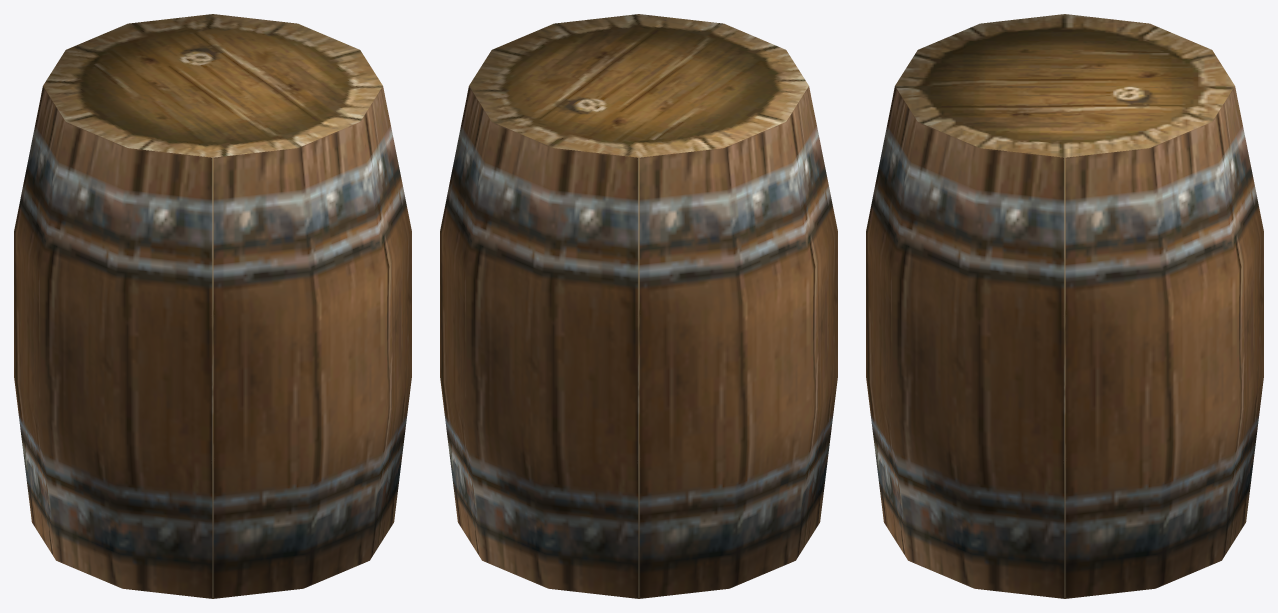
File: innbarrel.obj
3 views of the same model, side by side, from view 1: azimuth 30°, elevation 25°; view 2: azimuth 150°, elevation 25°; view 3: azimuth 270°, elevation 25° (orthographic).
Bounding box in the file's own units: 1.38 × 1.67 × 1.38.
Materials: 1 (1 with a texture image).
